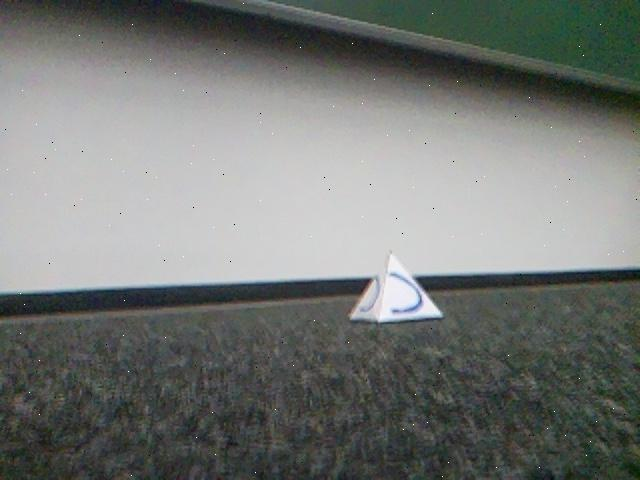C: (346, 251, 442, 325)
